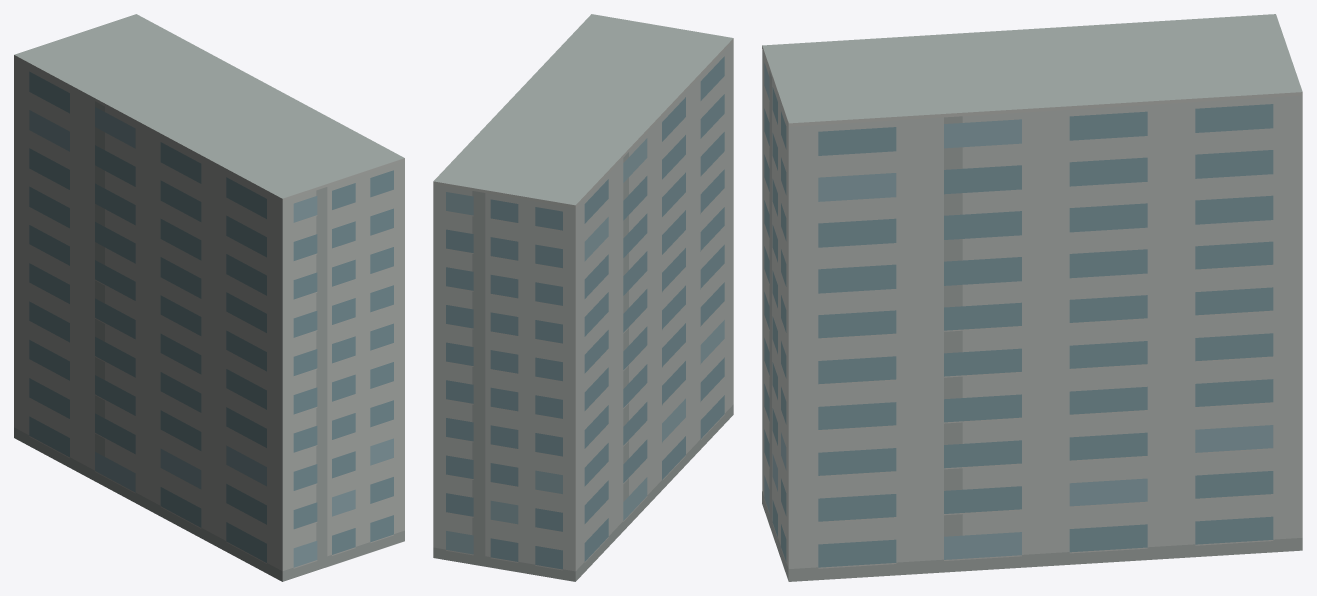
Rendered from residential-257d64af-42b2-4576-b169-0c49434f0b25.glb.
3 renders of one model, left to right at view 1: azimuth 30°, elevation 25°; view 2: azimuth 150°, elevation 25°; view 3: azimuth 270°, elevation 25°, orthographic. The views are drawn at different scales.
Parts seen in each view (by area): view 1: residential-257d64af-42b2-4576-b169-0c49434f0b25.tmp; view 2: residential-257d64af-42b2-4576-b169-0c49434f0b25.tmp; view 3: residential-257d64af-42b2-4576-b169-0c49434f0b25.tmp.
Part boxes in pixels (x1,y1,x2,y2): residential-257d64af-42b2-4576-b169-0c49434f0b25.tmp: (14,14,404,581); residential-257d64af-42b2-4576-b169-0c49434f0b25.tmp: (433,14,733,581); residential-257d64af-42b2-4576-b169-0c49434f0b25.tmp: (762,14,1302,581).
Size of the model in its own units: 16.38 by 32 by 34.2.
